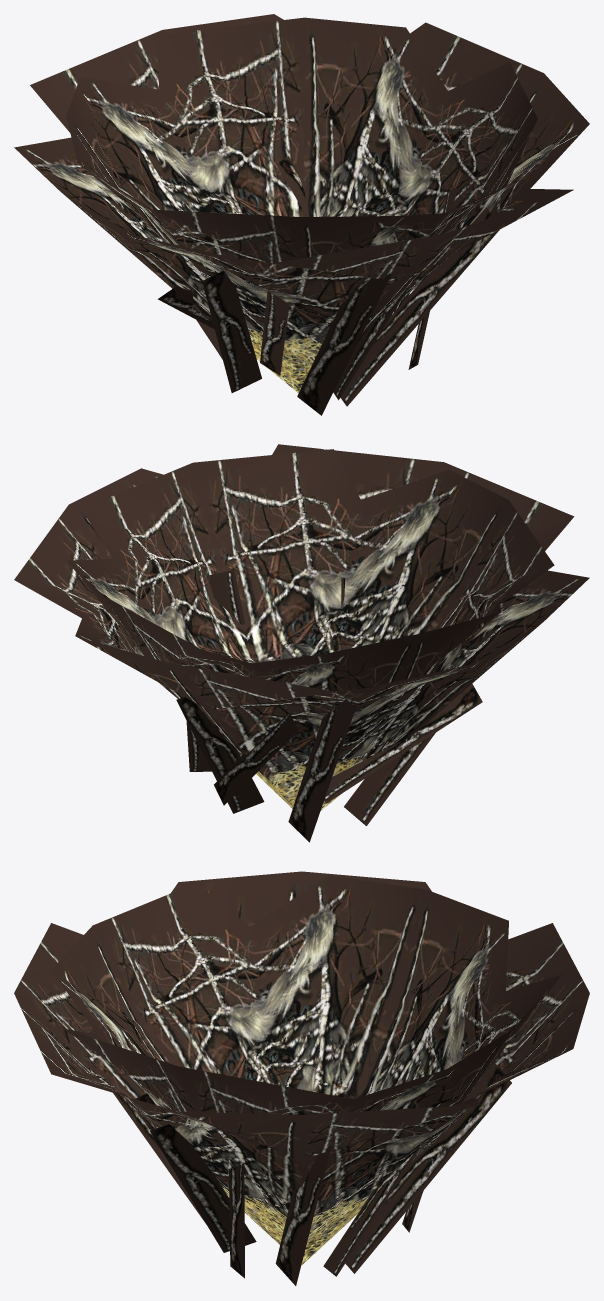
File: poi_all_lair_nest_small_l1.fbx
The picture shows the model from 3 angles, top to bottom: view 1: azimuth 30°, elevation 25°; view 2: azimuth 150°, elevation 25°; view 3: azimuth 270°, elevation 25°; orthographic projection. The views are drawn at different scales.
Visible parts, largest first — view 1: mesh_node; view 2: mesh_node; view 3: mesh_node.
Boxes of the visible parts, x1,y1,x2,y2 form: mesh_node: (14,14,589,415); mesh_node: (14,444,589,842); mesh_node: (14,871,589,1285).
Size of the model in its own units: 2.82 by 1.55 by 2.82.
